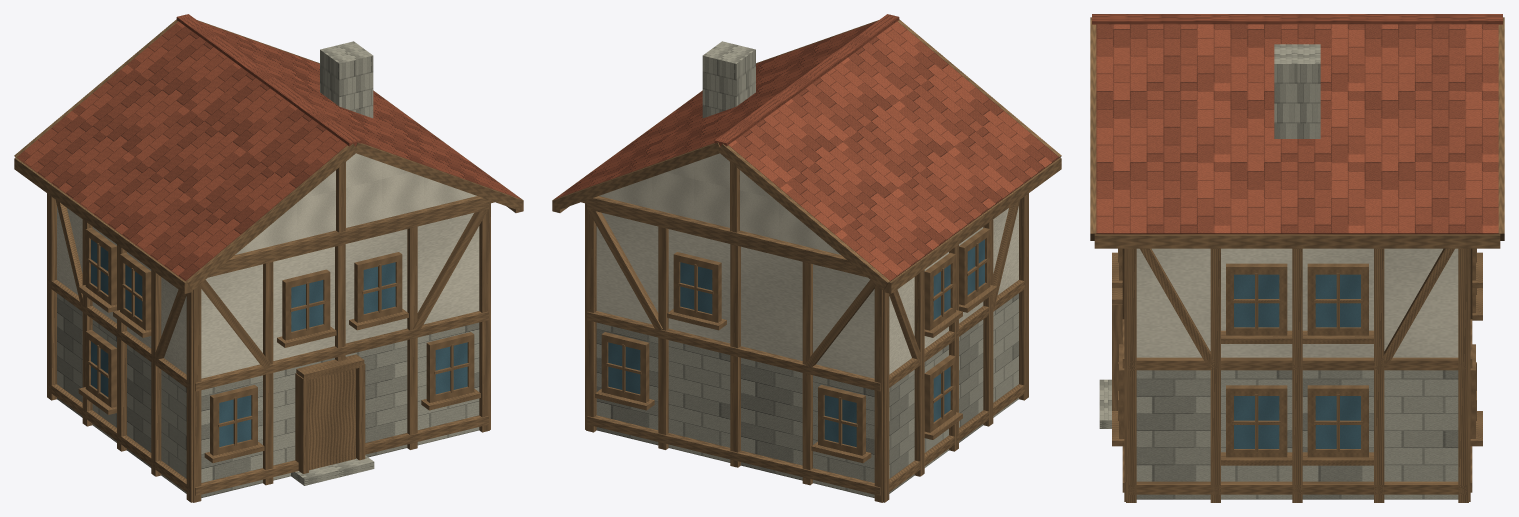
3 renders of one model, left to right at view 1: azimuth 30°, elevation 25°; view 2: azimuth 150°, elevation 25°; view 3: azimuth 270°, elevation 25°, orthographic. The views are drawn at different scales.
Parts seen in each view (by area): view 1: house-wood, house-roof, house-plaster, house-stone, house-glass; view 2: house-wood, house-roof, house-plaster, house-stone, house-glass; view 3: house-roof, house-wood, house-stone, house-plaster, house-glass.
Part boxes in pixels (x1,y1,x2,y2): house-wood: (14, 19, 523, 502); house-roof: (16, 14, 520, 280); house-plaster: (57, 153, 479, 378); house-stone: (57, 41, 479, 497); house-glass: (91, 239, 467, 446); house-wood: (552, 19, 1061, 502); house-roof: (555, 14, 1059, 280); house-plaster: (596, 153, 1018, 378); house-stone: (596, 41, 1018, 497); house-glass: (608, 239, 984, 446); house-roof: (1092, 14, 1502, 234); house-wood: (1090, 17, 1504, 502); house-stone: (1099, 44, 1458, 499); house-plaster: (1136, 248, 1458, 357); house-glass: (1234, 274, 1360, 448).
Bounding box in the file's own units: 7.98 × 7.7 × 7.1.
Materials: 5 (5 with a texture image).
